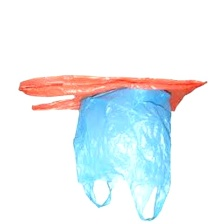plastic_bag: (71, 83, 175, 223), (13, 65, 212, 121)
